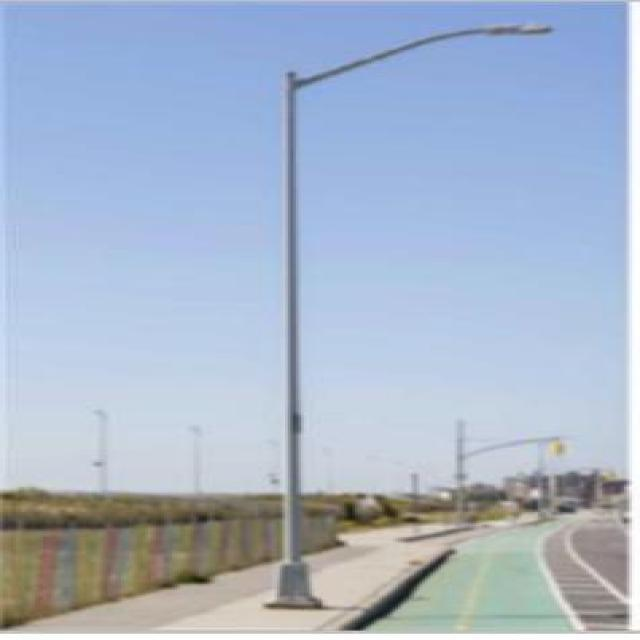off: (248, 0, 592, 56)
